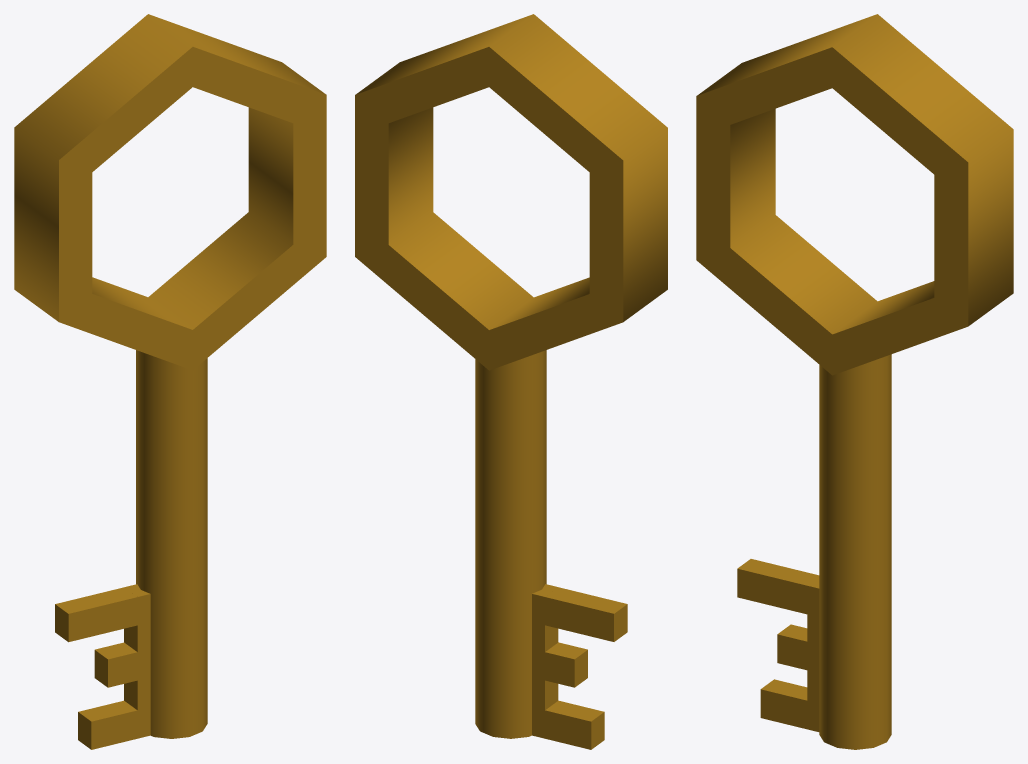
File: Key.FBX
3 renders of one model, left to right at view 1: azimuth 30°, elevation 25°; view 2: azimuth 150°, elevation 25°; view 3: azimuth 330°, elevation 25°, orthographic.
Parts seen in each view (by area): view 1: Key Top, Key Stem, Key Teeth (×4); view 2: Key Top, Key Stem, Key Teeth (×4); view 3: Key Top, Key Stem, Key Teeth (×4).
Part boxes in pixels (bbox=[...]): Key Top: bbox=[14, 14, 326, 370]; Key Stem: bbox=[136, 350, 207, 738]; Key Teeth (×4): bbox=[55, 584, 150, 749]; Key Top: bbox=[355, 14, 667, 370]; Key Stem: bbox=[475, 350, 546, 738]; Key Teeth (×4): bbox=[532, 584, 627, 749]; Key Top: bbox=[696, 14, 1013, 375]; Key Stem: bbox=[819, 354, 891, 749]; Key Teeth (×4): bbox=[737, 559, 819, 731].
Size of the model in its own units: 0.6928 by 1.71 by 0.2.
